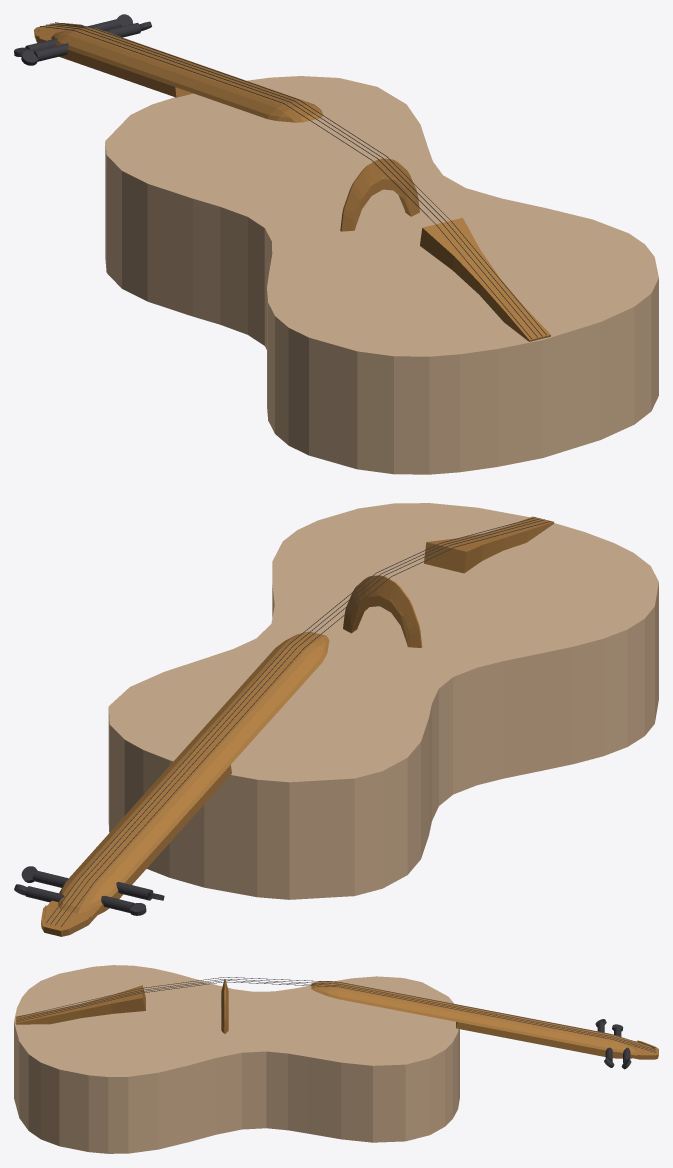
File: cello2.fbx
3 renders of one model, top to bottom at view 1: azimuth 30°, elevation 25°; view 2: azimuth 150°, elevation 25°; view 3: azimuth 270°, elevation 25°, orthographic. The views are drawn at different scales.
Visible parts, largest first — view 1: NurbsPath; view 2: NurbsPath; view 3: NurbsPath.
Boxes of the visible parts, left/top/right/bottom form: NurbsPath: left=14, top=14, right=658, bottom=474; NurbsPath: left=14, top=503, right=658, bottom=936; NurbsPath: left=14, top=965, right=658, bottom=1153.
Bounding box in the file's own units: 151 × 74.45 × 367.
Materials: 1 (1 with a texture image).
